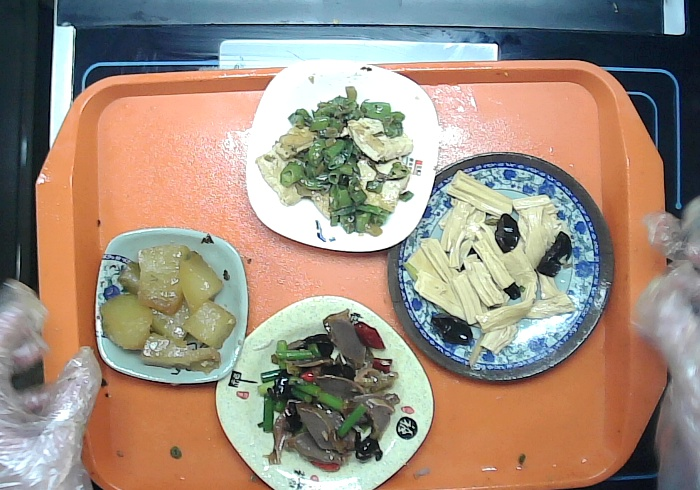NLDX-Bai_Se_Xiao_Fang_Die: (245, 59, 438, 252)
NLDX-Fu_Zi_Fang_Die: (215, 295, 436, 490)
NLDX-Qing_Hua_Xiao_Fang_Die: (93, 229, 249, 381)
NLDX-Qing_Hua_Yuan_Die: (386, 153, 613, 383)
